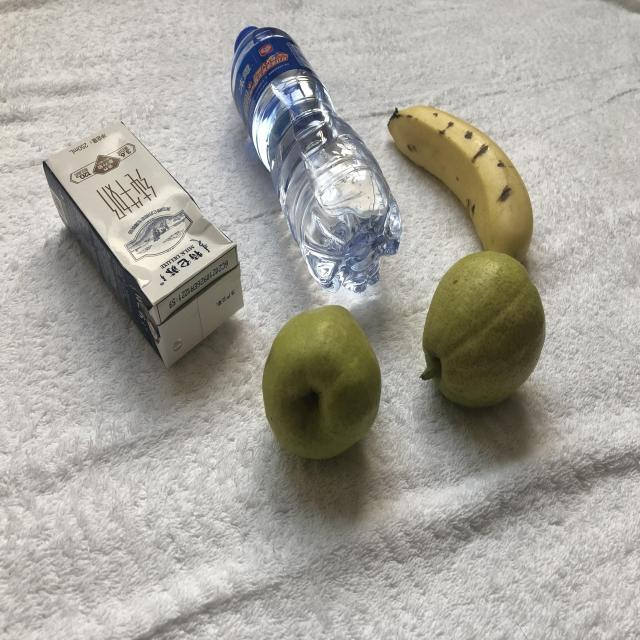Banana: (385, 71, 544, 282)
